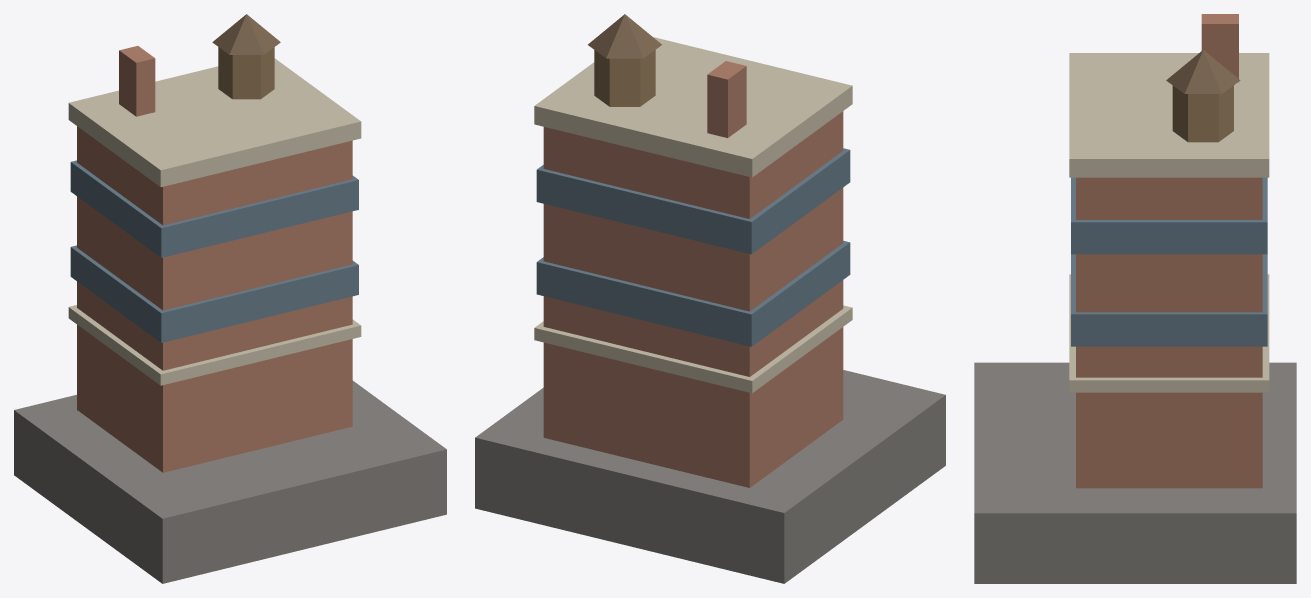
File: house-industrial-1.glb
3 views of the same model, side by side, from view 1: azimuth 30°, elevation 25°; view 2: azimuth 150°, elevation 25°; view 3: azimuth 270°, elevation 25° (orthographic). The views are drawn at different scales.
Parts seen in each view (by area): view 1: LOD0; view 2: LOD0; view 3: LOD0.
Part boxes in pixels (x1,y1,x2,y2): LOD0: (14, 14, 446, 583); LOD0: (475, 14, 945, 583); LOD0: (974, 14, 1296, 583).
Size of what is drawn, in the model's own units: 0.21 by 0.315 by 0.19.
